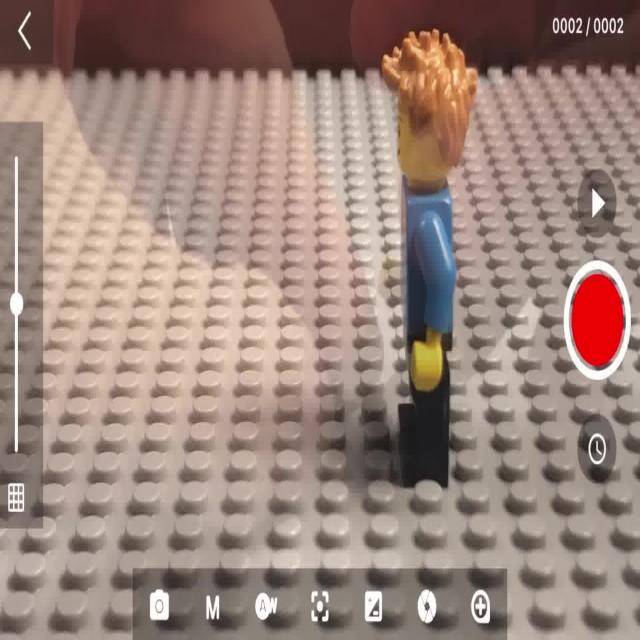4: (412, 213, 454, 390)
hand: (382, 30, 478, 490)
